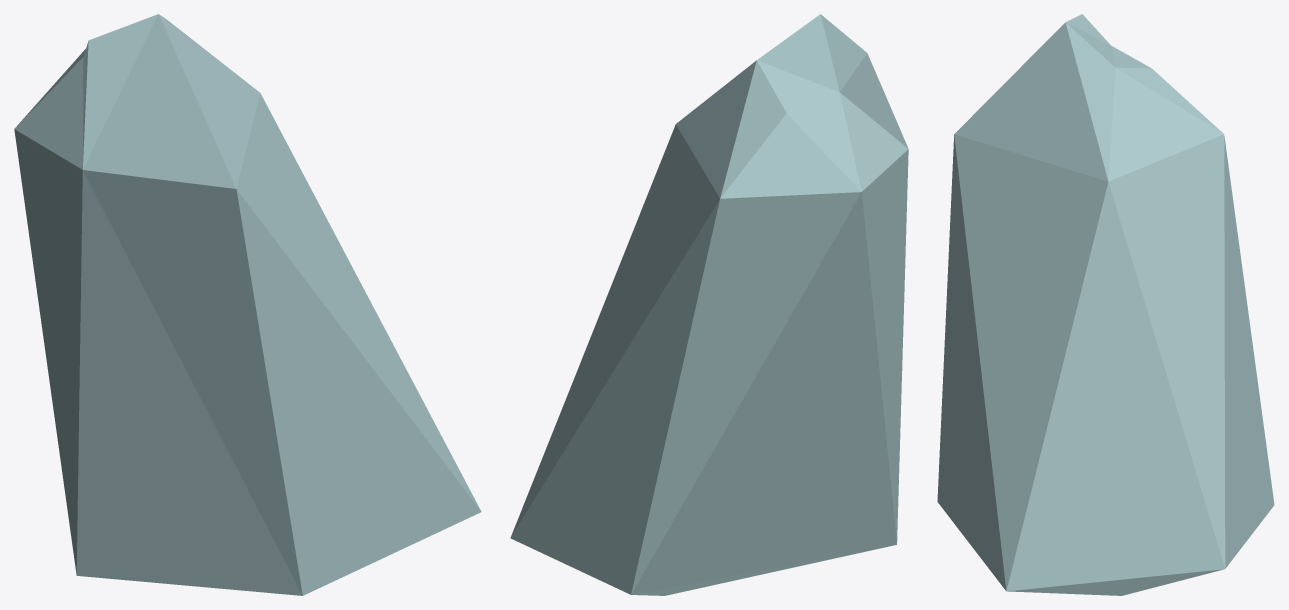
File: sinnglecrystal2.dae
3 renders of one model, left to right at view 1: azimuth 30°, elevation 25°; view 2: azimuth 150°, elevation 25°; view 3: azimuth 270°, elevation 25°, orthographic. The views are drawn at different scales.
Parts seen in each view (by area): view 1: Icosphere; view 2: Icosphere; view 3: Icosphere.
Boxes of the visible parts, x1,y1,x2,y2 form: Icosphere: (14, 14, 481, 595); Icosphere: (510, 14, 908, 595); Icosphere: (937, 14, 1274, 595).
Bounding box in the file's own units: 1.77 × 1.63 × 2.77.
